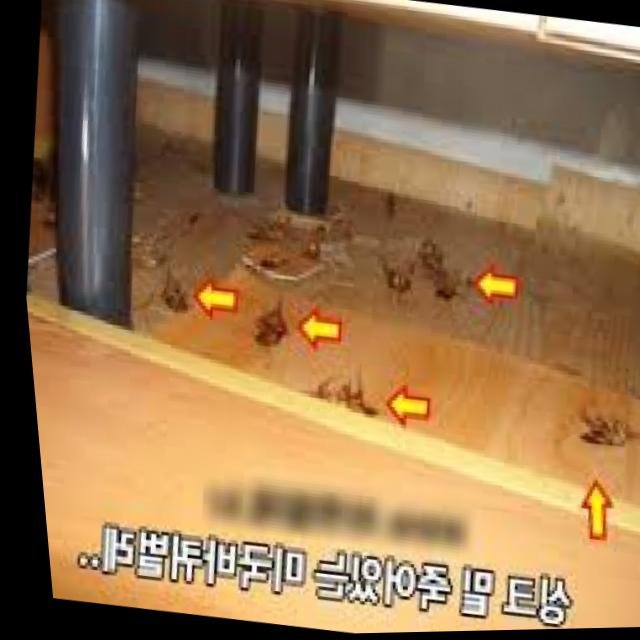Cockroach: (546, 362, 640, 477), (231, 272, 297, 368), (135, 232, 197, 331)
